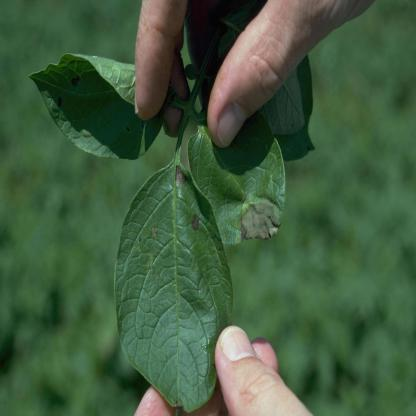potato leaf late blight: (185, 106, 288, 260)
